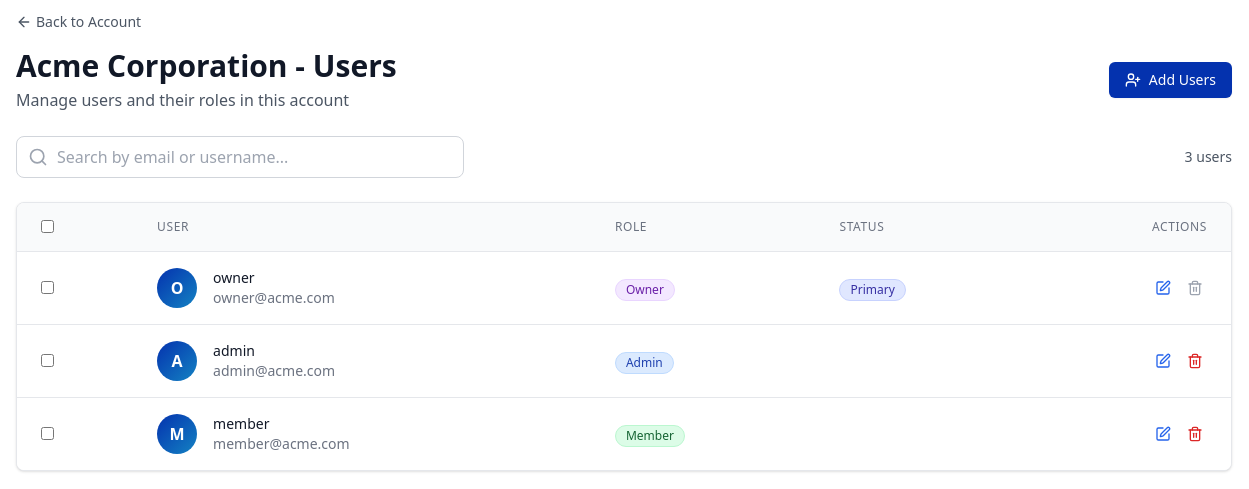
Test case: AccountUserManager › should select and deselect users with checkboxes
Expected: the text "owner@acme.com" is shown, [213,288,335,308]
Click the checkbox in the row of "owner@acme.com": (48,288) [41,281,54,294]
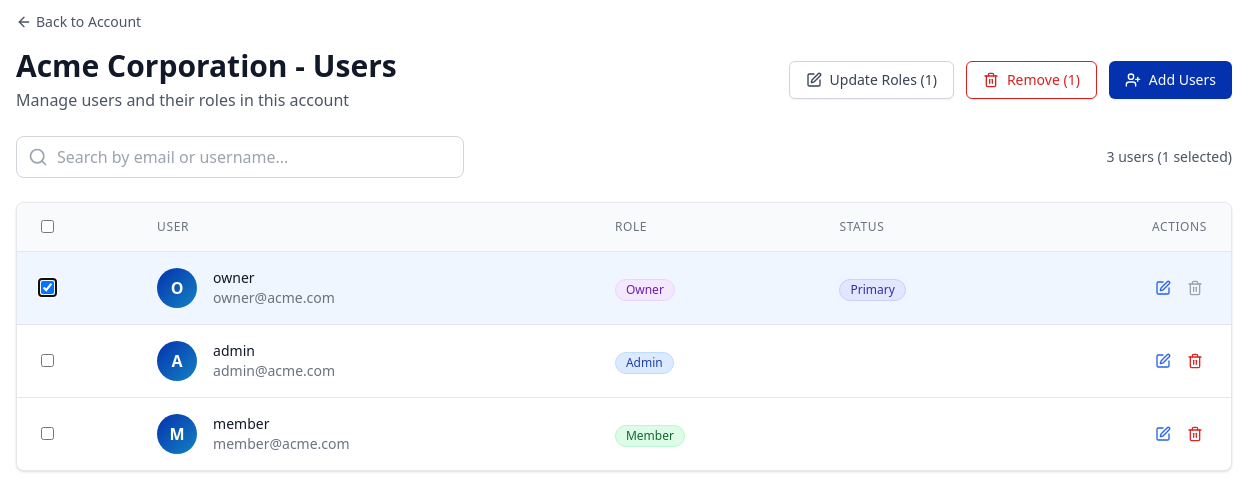
Expected: the text "3 users (1 selected)" is shown, [1106,147,1232,167]
Click the checkbox in the row of "owner@acme.com": (48,288) [41,281,54,294]
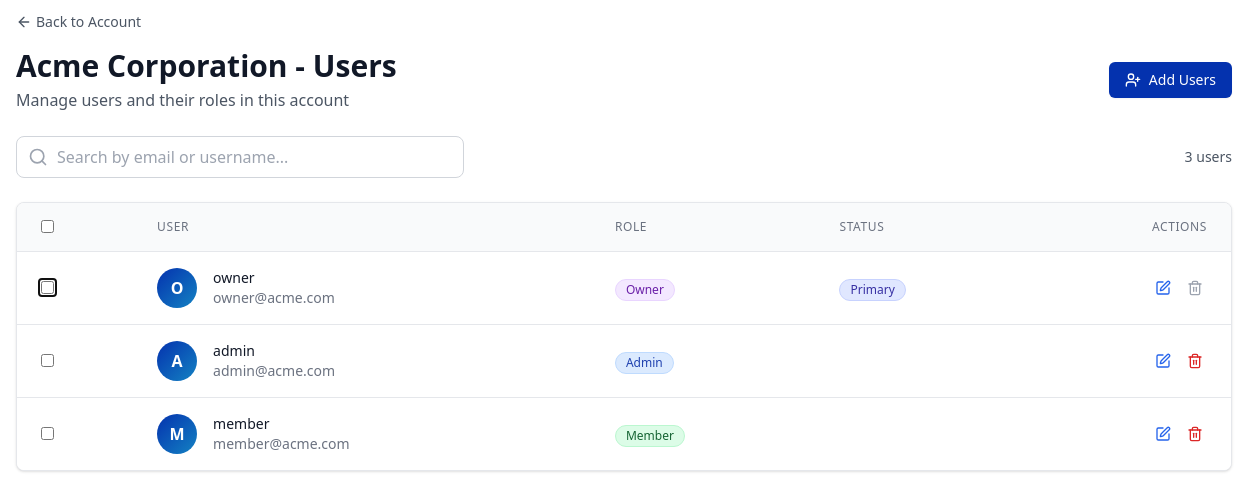
Expected: the text "3 users" is shown, [1185,147,1232,167]
Expected: the text "selected" is gone
